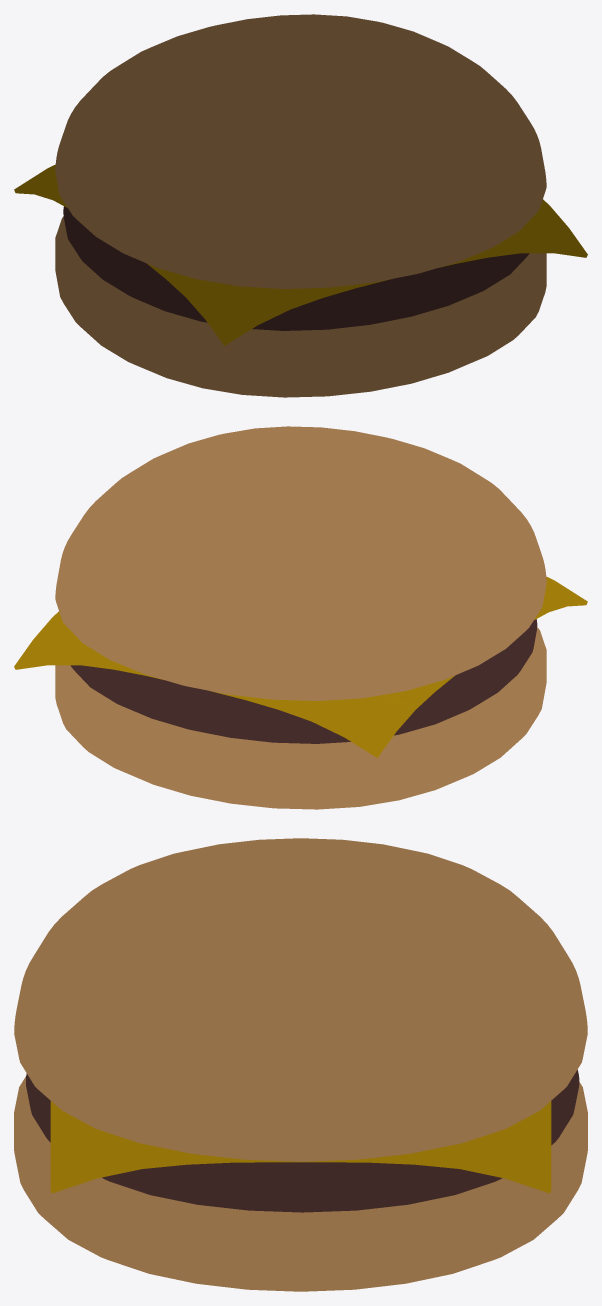
The model's file is hamburger-draco.gltf.
The picture shows the model from 3 angles, top to bottom: view 1: azimuth 30°, elevation 25°; view 2: azimuth 150°, elevation 25°; view 3: azimuth 270°, elevation 25°; orthographic projection. The views are drawn at different scales.
Parts seen in each view (by area): view 1: topBun, bottomBun, meat, cheese; view 2: topBun, bottomBun, meat, cheese; view 3: topBun, bottomBun, meat, cheese.
Boxes of the visible parts, x1,y1,x2,y2 form: topBun: (55,14,546,288); bottomBun: (55,216,546,397); meat: (63,206,529,330); cheese: (14,164,587,345); topBun: (55,426,546,700); bottomBun: (55,627,546,809); meat: (70,619,537,743); cheese: (14,576,587,757); topBun: (14,838,587,1161); bottomBun: (14,1076,587,1291); meat: (26,1069,579,1212); cheese: (50,1101,551,1193).
Size of the model in its own units: 9.17 by 5.48 by 9.17.
